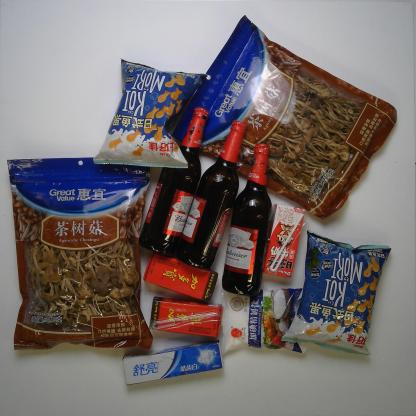Alcohol: (138, 108, 214, 256), (177, 121, 247, 270), (221, 141, 274, 298)
Dried Food: (173, 15, 397, 218), (4, 150, 153, 355)
Drink: (140, 250, 219, 302), (146, 292, 224, 342)
Milk: (261, 202, 306, 279)
Personal Hygiene: (118, 340, 224, 386)
Puffed Food: (279, 228, 393, 356), (93, 55, 202, 174)
Seasoner: (220, 288, 303, 357)
